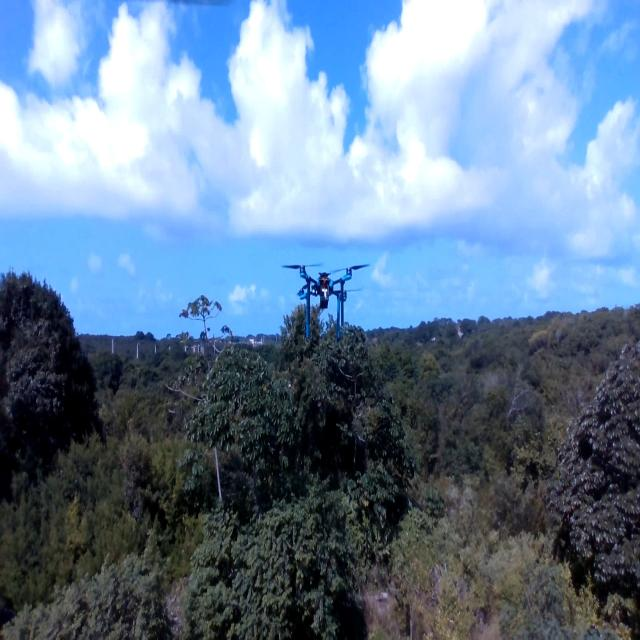-uav-: (274, 246, 373, 361)
